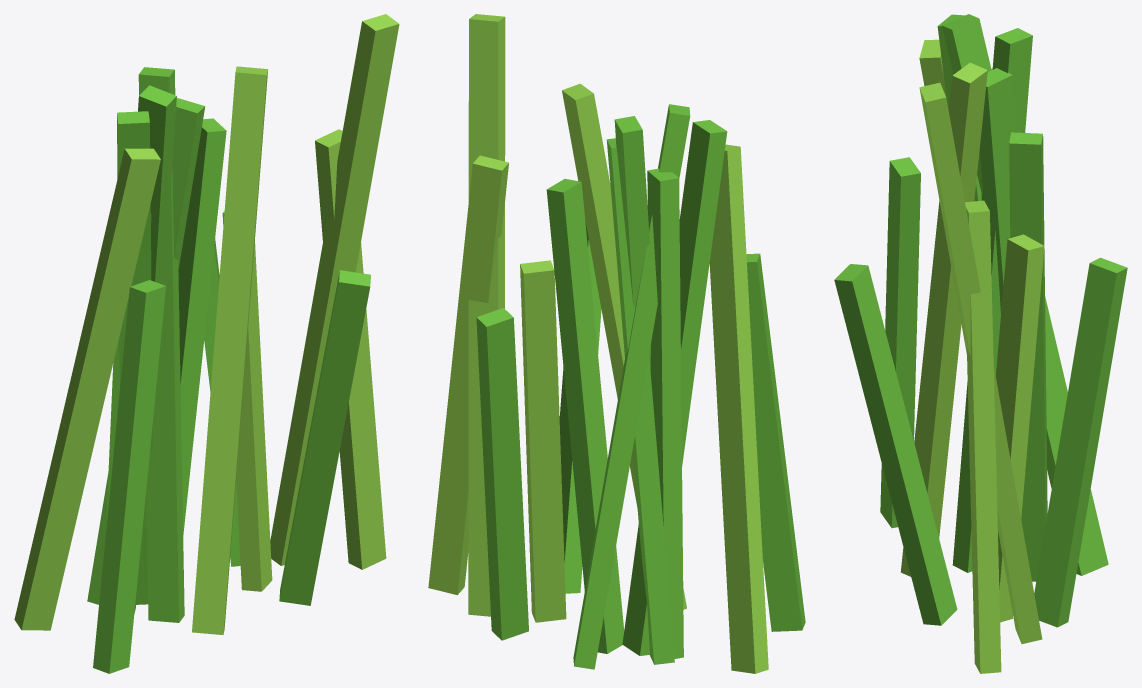
File: TallGrass.fbx
3 renders of one model, left to right at view 1: azimuth 30°, elevation 25°; view 2: azimuth 150°, elevation 25°; view 3: azimuth 270°, elevation 25°, orthographic. The views are drawn at different scales.
Visible parts, largest first — view 1: TallGrass; view 2: TallGrass; view 3: TallGrass.
Boxes of the visible parts, x1,y1,x2,y2 form: TallGrass: [14, 14, 399, 673]; TallGrass: [428, 14, 805, 673]; TallGrass: [834, 14, 1127, 673].
Bounding box in the file's own units: 1.54 × 2.36 × 1.1.
1 material, 1 textured.
